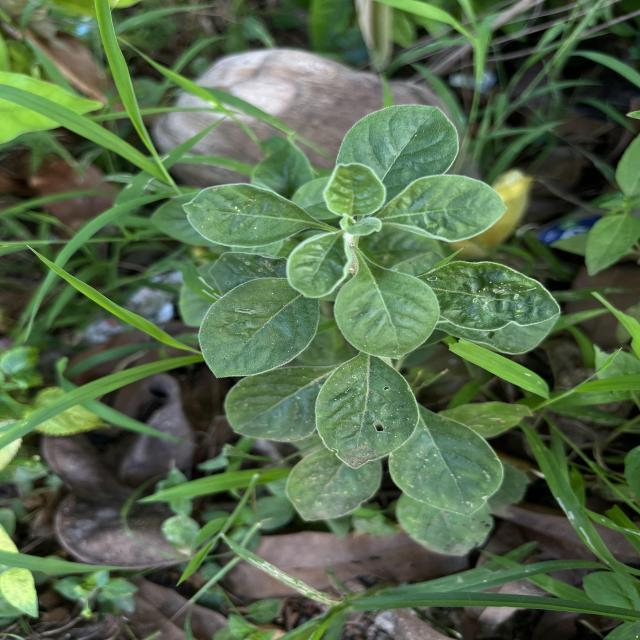Aerva lanata: (333, 102, 463, 214), (195, 275, 322, 381), (312, 352, 422, 471), (406, 258, 563, 334)
